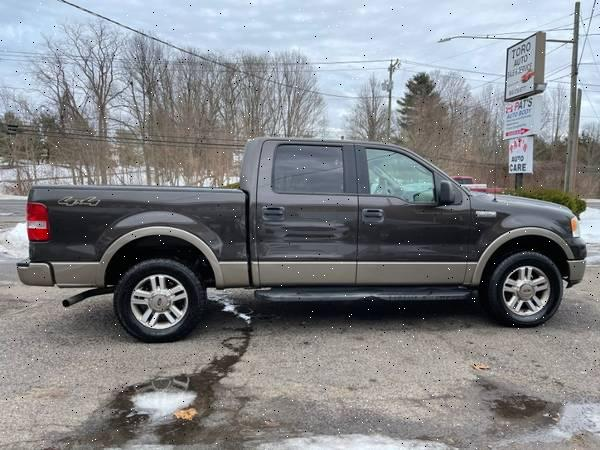Front_Bumper: (561, 237, 587, 286)
Front_Fender: (463, 194, 573, 286)
Front_Right_Door: (356, 198, 473, 286)
Front_Right_Window: (351, 141, 462, 204)
Rear_Bumper: (23, 260, 55, 290)
Rear_Fender: (28, 186, 254, 288)
Rear_Right_Door: (251, 194, 358, 285)
Rear_Right_Window: (264, 140, 350, 193)
Right_Headlight: (569, 214, 582, 239)
Right_Taillight: (26, 203, 48, 241)
Roof: (232, 135, 470, 198)
Wheel: (112, 258, 206, 344), (489, 251, 565, 327)
